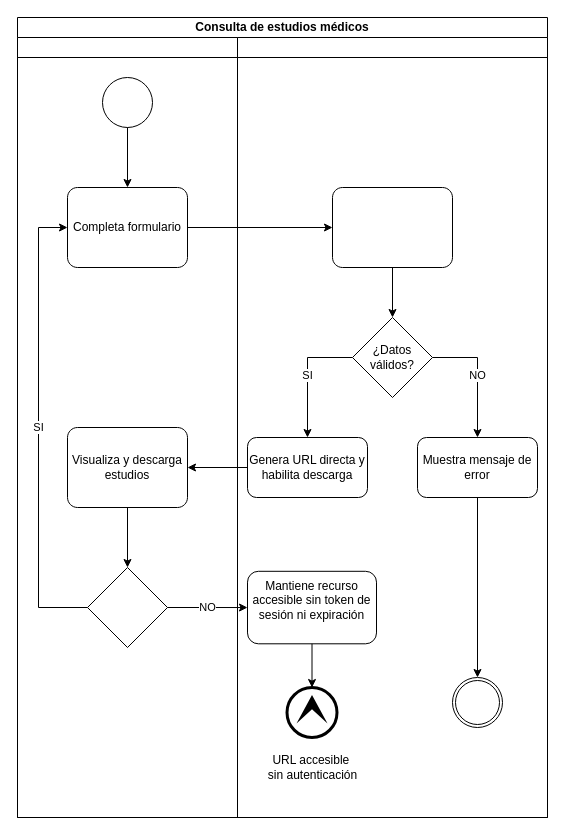
Some shapes in this 565 by 835 pixel diagram are drawn without their labels. The box of each missing label's shape, as (x1, y1, x2, y2) in pixels:
Sistema: (236, 36, 548, 818)
Usuario: (16, 36, 238, 818)
Valida credenciales y CAPTCHA: (332, 186, 452, 268)
¿Realizar otra consulta?: (86, 566, 168, 648)
